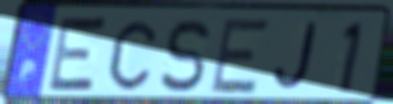1: (336, 19, 366, 96)
C: (107, 18, 159, 93)
E: (44, 12, 110, 97), (207, 16, 273, 96)
J: (271, 20, 320, 94)
S: (157, 17, 213, 95)
